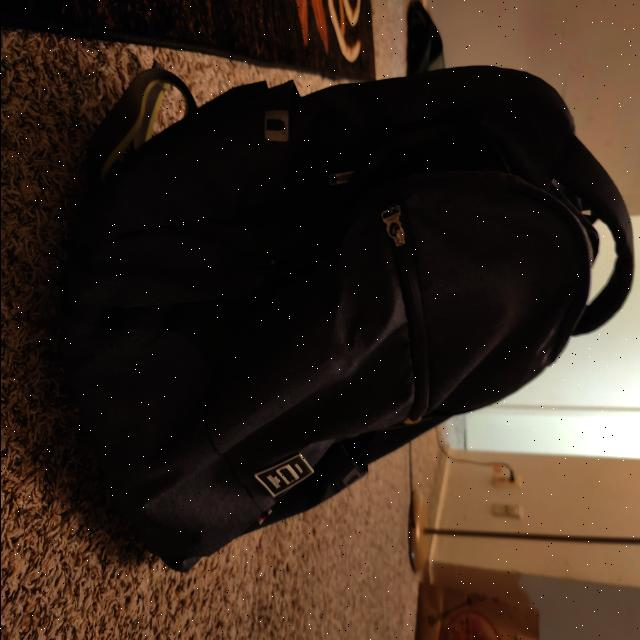bag: (82, 72, 632, 560)
